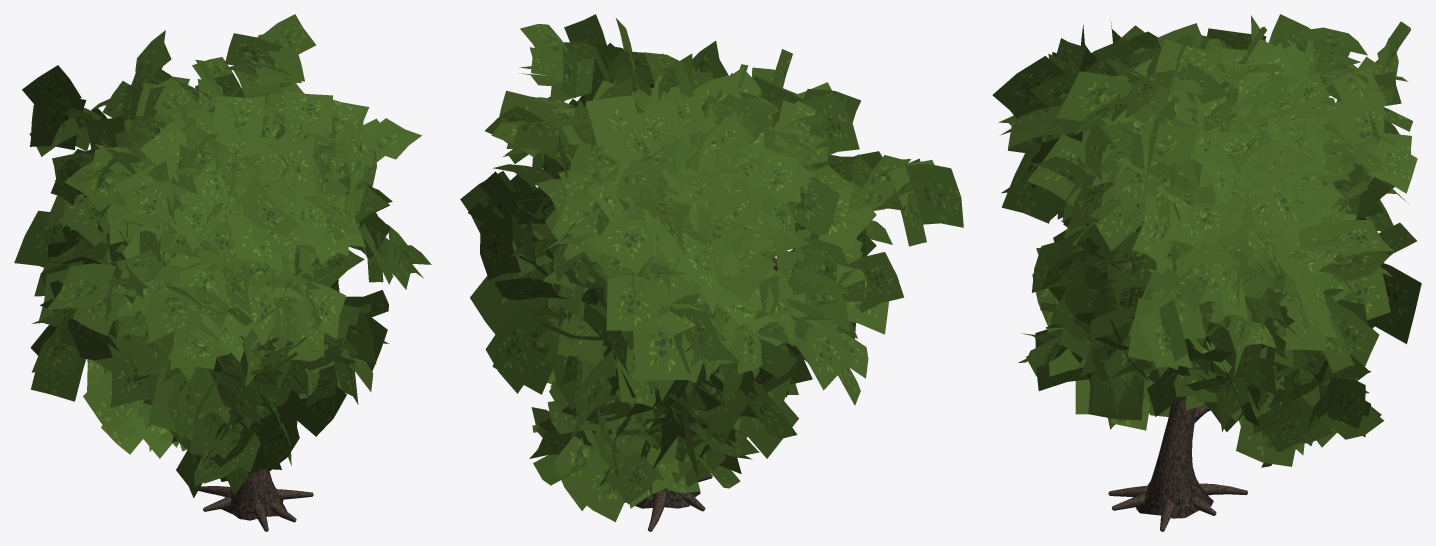
The model's file is RealisticTree_LOD1.obj.
3 views of the same model, side by side, from view 1: azimuth 30°, elevation 25°; view 2: azimuth 150°, elevation 25°; view 3: azimuth 270°, elevation 25° (orthographic). The views are drawn at different scales.
Parts seen in each view (by area): view 1: RealisticTree_LOD1; view 2: RealisticTree_LOD1; view 3: RealisticTree_LOD1.
Boxes of the visible parts, bbox=[...] form: RealisticTree_LOD1: bbox=[14, 14, 431, 531]; RealisticTree_LOD1: bbox=[460, 14, 963, 531]; RealisticTree_LOD1: bbox=[992, 14, 1421, 531].
Size of the model in its own units: 10.76 by 11.03 by 8.78.
Materials: 4 (4 with a texture image).
